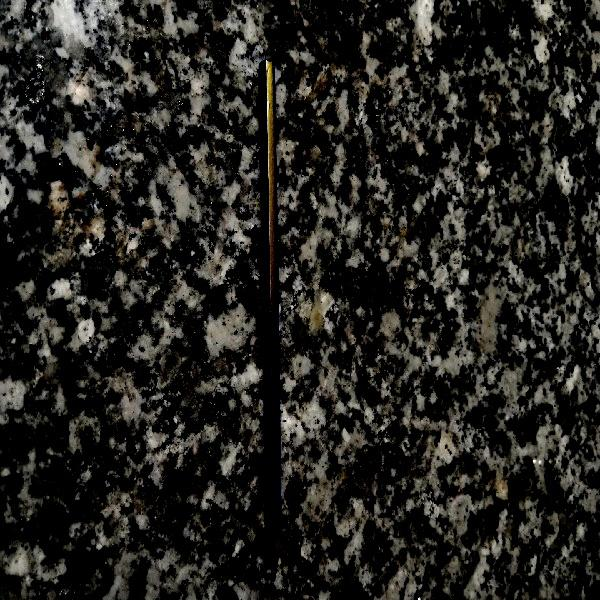pencil: (252, 56, 285, 536)
